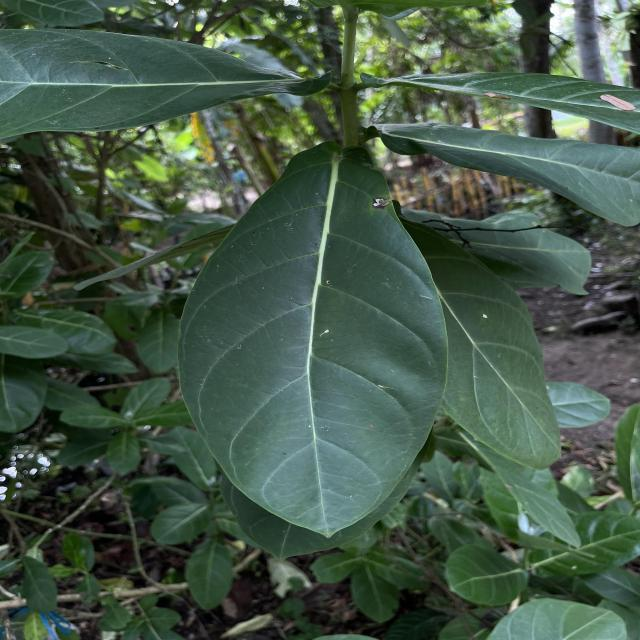Calotropis gigantea: (172, 139, 449, 541), (397, 215, 569, 470)
